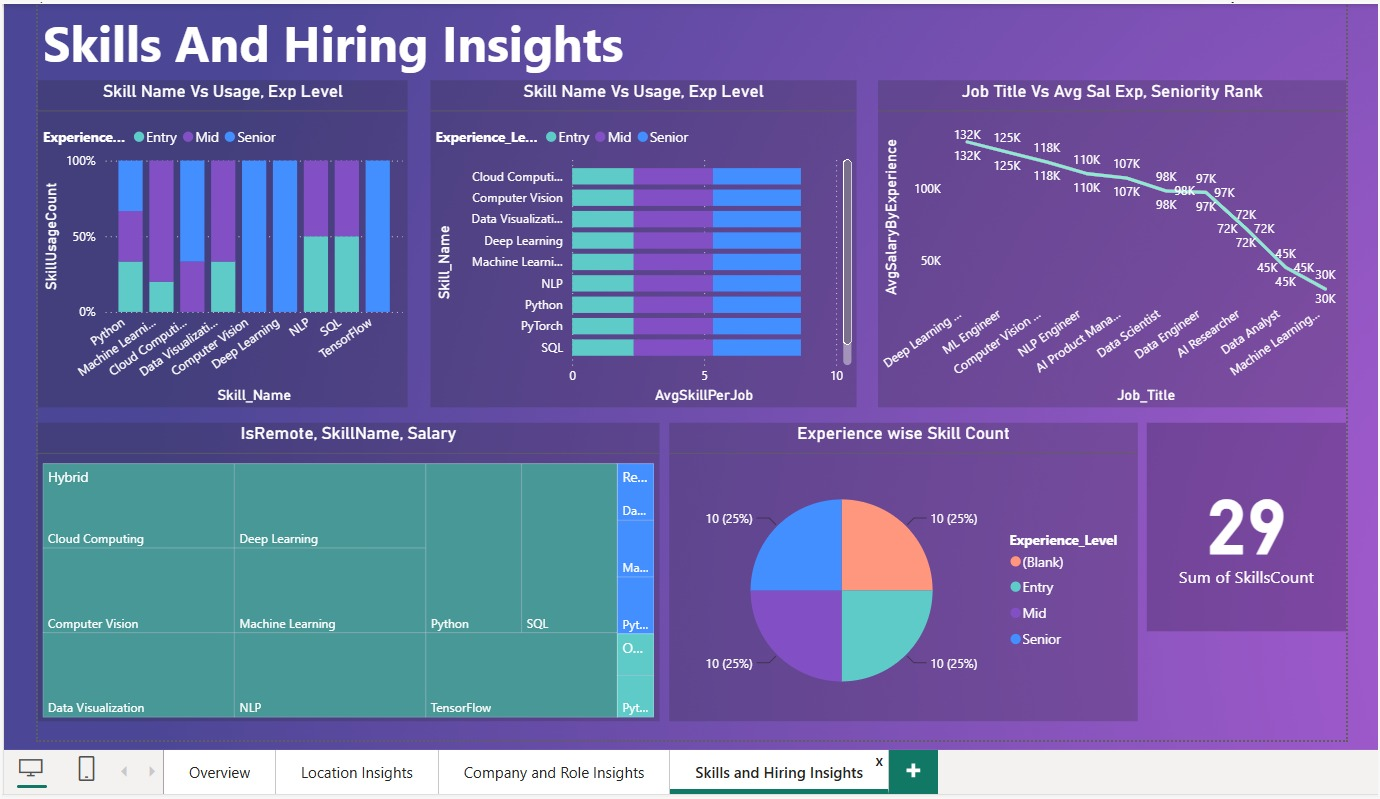

This screenshot's page, from the dashboard's own definition file:
{"tool":"powerbi","page":{"name":"Skills and Hiring Insights","canvas":[1280,720],"ordinal":3},"visuals":[{"type":"textbox","box":[0,0,639.5,74.6],"z":0},{"type":"treemap","title":"IsRemote, SkillName, Salary","fields":{"Group":["Fact_Jobs.IsRemote"],"Details":["Dim_Skills.Skill_Name"],"Values":["Sum(Fact_Jobs.Salary_USD)"]},"box":[0,409.6,607.7,292.3],"z":1000},{"type":"hundredPercentStackedColumnChart","title":"Skill Name Vs Usage, Exp Level","fields":{"Category":["Dim_Skills.Skill_Name"],"Series":["Fact_Jobs.Experience_Level"],"Y":["Dim_Skills.SkillUsageCount"]},"box":[0,74.6,362,320.4],"z":2000},{"type":"card","title":"Total Jobs","fields":{"Values":["Sum(Fact_Jobs.SkillsCount)"]},"box":[1084.7,409.6,195.7,204.2],"z":3000},{"type":"lineChart","title":"Job Title Vs Avg Sal Exp, Seniority Rank","fields":{"Series":["Dim_Skills.Skill_Name"],"Category":["Fact_Jobs.Job_Title"],"Y":["Fact_Jobs.AvgSalaryByExperience"]},"box":[821.7,74.6,458.6,320.4],"z":4000},{"type":"barChart","title":"Skill Name Vs Usage, Exp Level","fields":{"Category":["Dim_Skills.Skill_Name"],"Series":["Fact_Jobs.Experience_Level"],"Y":["Fact_Job_Skills.AvgSkillPerJob"]},"box":[384,74.6,417,320.4],"z":5000},{"type":"pieChart","title":"Experience wise Skill Count","fields":{"Y":["CountNonNull(Dim_Skills.Skill_Name)"],"Category":["Fact_Jobs.Experience_Level"]},"box":[617.5,409.6,458.6,292.3],"z":6000}]}

Visuals, with their boxes on the page's 1280x720 design canvas (x1, y1, x2, y2). These are canvas units, not pixel positions in the 1380x799 screenshot, which may show the page scaled, cropped or inside an application window:
textbox: x1=0 y1=0 x2=640 y2=75
"IsRemote, SkillName, Salary" treemap: x1=0 y1=410 x2=608 y2=702
"Skill Name Vs Usage, Exp Level" hundredPercentStackedColumnChart: x1=0 y1=75 x2=362 y2=395
"Total Jobs" card: x1=1085 y1=410 x2=1280 y2=614
"Job Title Vs Avg Sal Exp, Seniority Rank" lineChart: x1=822 y1=75 x2=1280 y2=395
"Skill Name Vs Usage, Exp Level" barChart: x1=384 y1=75 x2=801 y2=395
"Experience wise Skill Count" pieChart: x1=618 y1=410 x2=1076 y2=702
